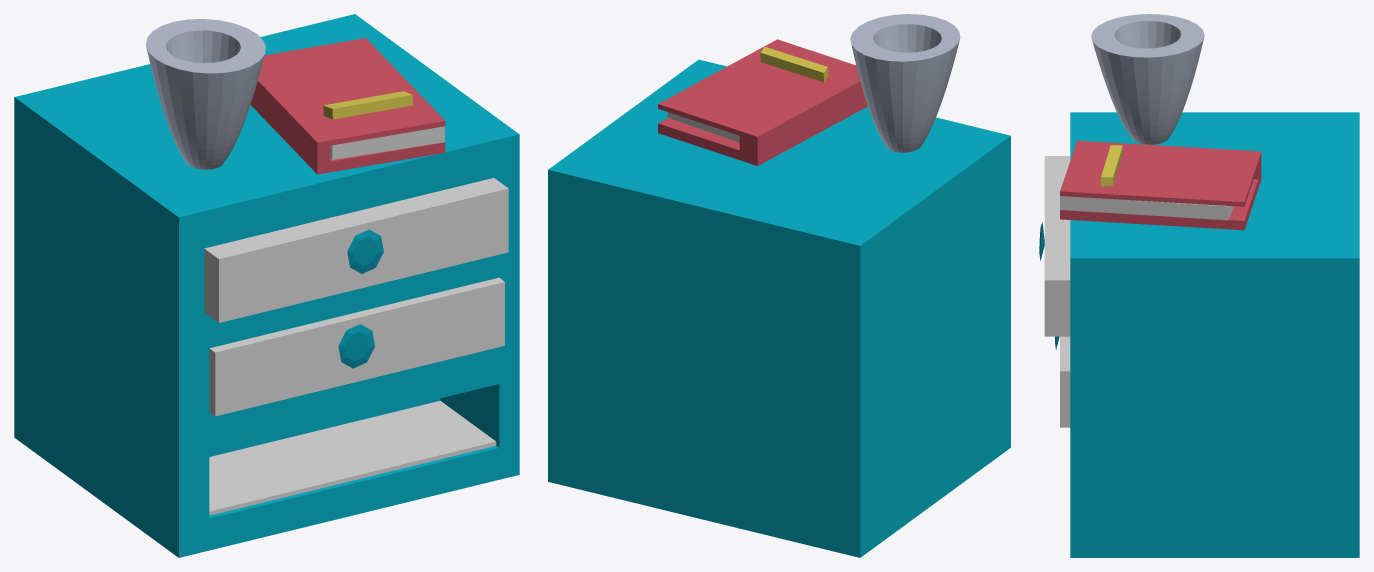
Rendered from Table.glb.
3 renders of one model, left to right at view 1: azimuth 30°, elevation 25°; view 2: azimuth 150°, elevation 25°; view 3: azimuth 270°, elevation 25°, orthographic. The views are drawn at different scales.
Visible parts, largest first — view 1: Mesh_Mesh_head_geo.001_lambert2SG.001; view 2: Mesh_Mesh_head_geo.001_lambert2SG.001; view 3: Mesh_Mesh_head_geo.001_lambert2SG.001.
Boxes of the visible parts, x1,y1,x2,y2 form: Mesh_Mesh_head_geo.001_lambert2SG.001: (14, 14, 519, 557); Mesh_Mesh_head_geo.001_lambert2SG.001: (548, 14, 1010, 557); Mesh_Mesh_head_geo.001_lambert2SG.001: (1039, 14, 1359, 557).
Size of the model in its own units: 67 by 87 by 62.
